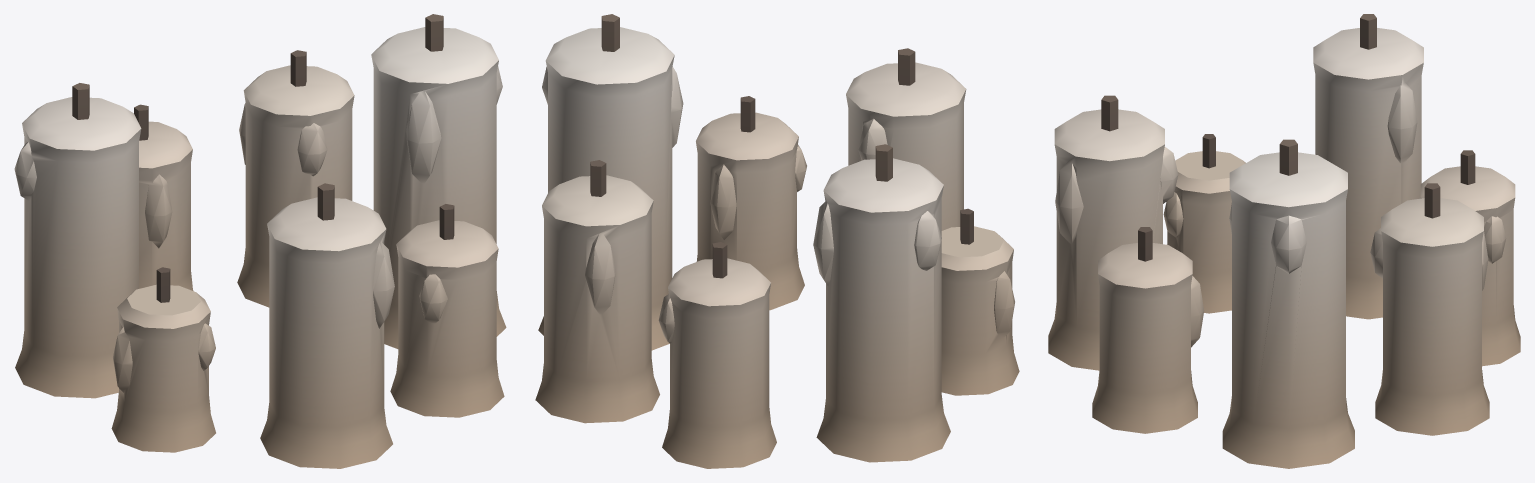
Rendered from candle_ring.glb.
3 views of the same model, side by side, from view 1: azimuth 30°, elevation 25°; view 2: azimuth 150°, elevation 25°; view 3: azimuth 270°, elevation 25° (orthographic). The views are drawn at different scales.
Parts seen in each view (by area): view 1: candle_ring; view 2: candle_ring; view 3: candle_ring.
Part boxes in pixels (x1,y1,x2,y2): candle_ring: (14, 14, 506, 468); candle_ring: (535, 14, 1019, 468); candle_ring: (1048, 14, 1520, 468).
Bounding box in the file's own units: 1.23 × 0.82 × 1.18.
1 material, 1 textured.
